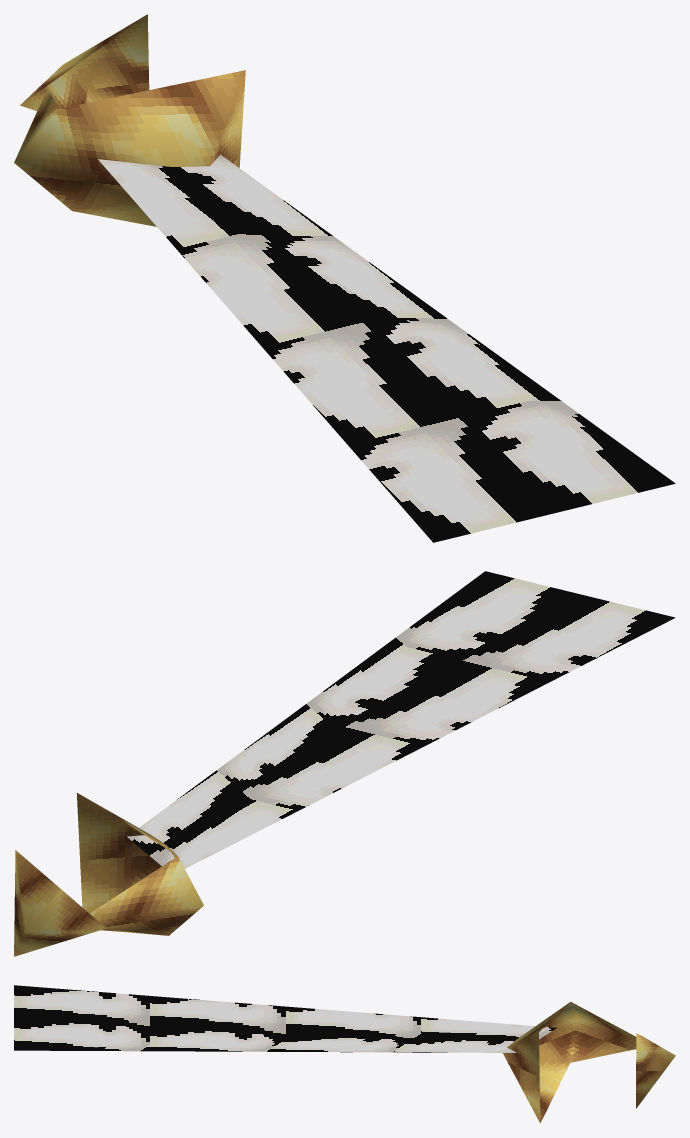
File: 2747dot_sword.gltf
3 renders of one model, top to bottom at view 1: azimuth 30°, elevation 25°; view 2: azimuth 150°, elevation 25°; view 3: azimuth 270°, elevation 25°, orthographic. The views are drawn at different scales.
Visible parts, largest first — view 1: 2747dot_sword; view 2: 2747dot_sword; view 3: 2747dot_sword.
Boxes of the visible parts, x1,y1,x2,y2 form: 2747dot_sword: (14,14,675,542); 2747dot_sword: (14,571,675,956); 2747dot_sword: (14,985,675,1123).
Bounding box in the file's own units: 0.5598 × 0.3164 × 2.02.
2 materials, 2 textured.
